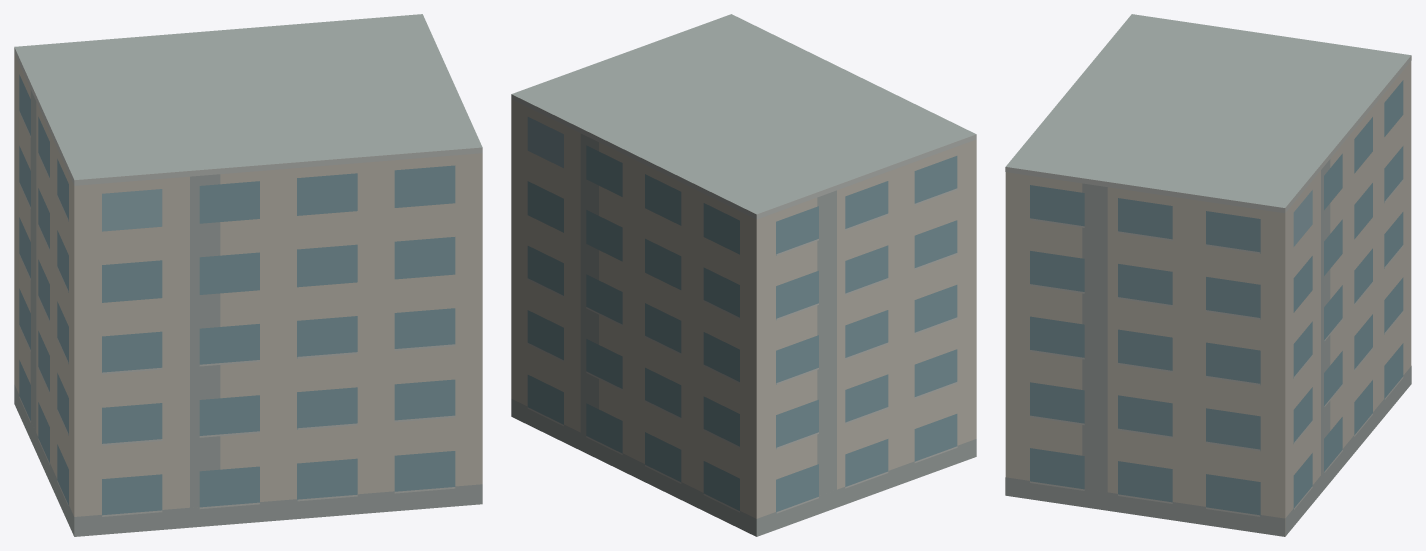
Rendered from residential-6b39d6f3-1415-4338-82bf-496b6602ffd6.glb.
3 views of the same model, side by side, from view 1: azimuth 30°, elevation 25°; view 2: azimuth 150°, elevation 25°; view 3: azimuth 270°, elevation 25° (orthographic). The views are drawn at different scales.
Visible parts, largest first — view 1: residential-6b39d6f3-1415-4338-82bf-496b6602ffd6.tmp; view 2: residential-6b39d6f3-1415-4338-82bf-496b6602ffd6.tmp; view 3: residential-6b39d6f3-1415-4338-82bf-496b6602ffd6.tmp.
Part boxes in pixels (bbox=[...]): residential-6b39d6f3-1415-4338-82bf-496b6602ffd6.tmp: bbox=[14, 14, 482, 536]; residential-6b39d6f3-1415-4338-82bf-496b6602ffd6.tmp: bbox=[511, 14, 976, 536]; residential-6b39d6f3-1415-4338-82bf-496b6602ffd6.tmp: bbox=[1005, 14, 1411, 536].
Size of the model in its own units: 19.32 by 15.25 by 17.08.
